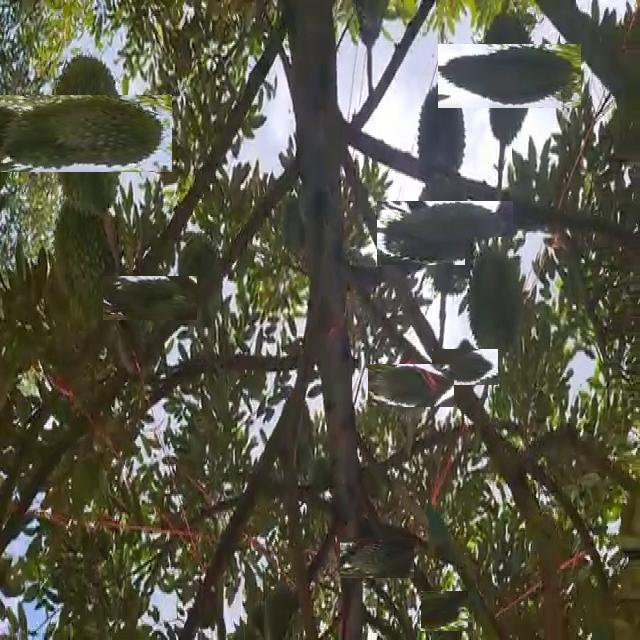durian: (22, 70, 148, 196), (458, 24, 562, 128), (395, 183, 496, 284), (50, 199, 119, 333), (465, 237, 529, 368), (175, 234, 227, 334), (115, 263, 185, 332), (379, 354, 443, 418), (349, 529, 406, 587), (440, 342, 491, 393), (260, 570, 296, 640), (348, 2, 392, 51), (422, 589, 467, 634)
